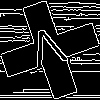V: (25, 25, 72, 79)
